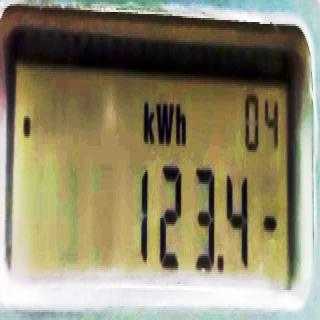-: (263, 208, 278, 238), (22, 110, 32, 144), (217, 248, 226, 282)
0: (243, 87, 260, 159)
1: (138, 164, 150, 269)
2: (156, 159, 184, 274)
3: (193, 162, 217, 282)
4: (226, 168, 251, 278), (264, 91, 280, 156)
